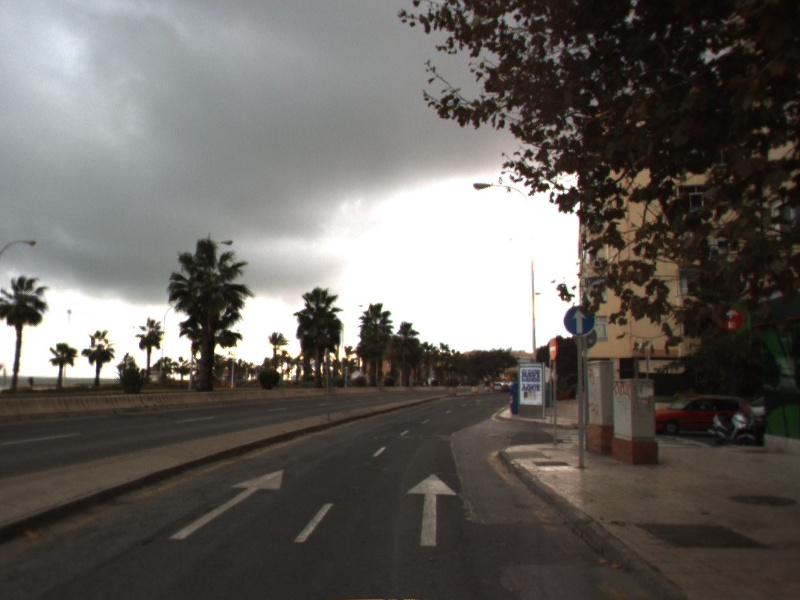STRAIGHT: (169, 468, 284, 540), (405, 471, 460, 547)
